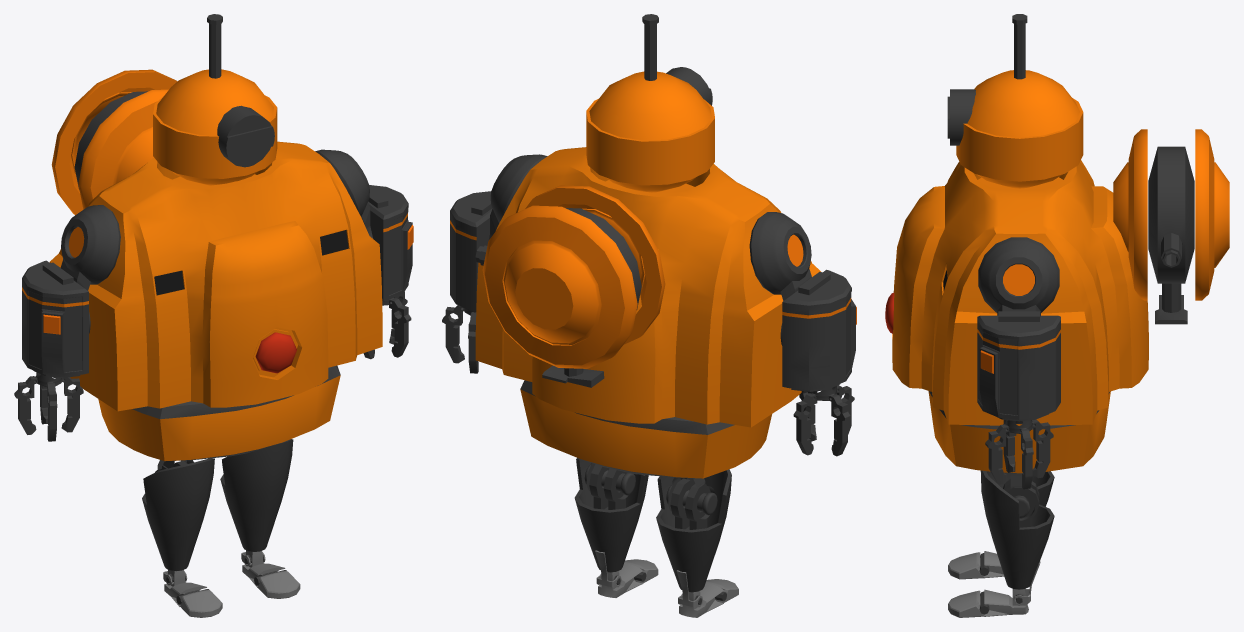
Rendered from Fatboy.fbx.
3 views of the same model, side by side, from view 1: azimuth 30°, elevation 25°; view 2: azimuth 150°, elevation 25°; view 3: azimuth 270°, elevation 25° (orthographic). The views are drawn at different scales.
Parts seen in each view (by area): view 1: Plane001.002, Sphere006.002, Plane002.002, fatboy_bacak_ve_ayak.013, fatboy_kollar.034, fatboy_kollar.033, Sphere004, Sphere005, fatbot_bacak_ve_ayak.023, fatboy_kollar.028, fatbot_bacak_ve_ayak.025, fatboy_govde_lamba_01.002 (+3 smaller); view 2: Plane001.002, Sphere005, Sphere006.002, Plane002.002, fatboy_kollar.034, fatboy_bacak_ve_ayak.013, fatboy_kollar.033, Sphere004, fatboy_kollar.027, fatbot_bacak_ve_ayak.025, fatboy_kollar.029, Cylinder001 (+5 smaller); view 3: Plane001.002, Sphere006.002, fatboy_kollar.034, fatboy_bacak_ve_ayak.013, Plane002.002, Cylinder001, fatboy_kollar.033, Sphere005, Sphere004, fatbot_bacak_ve_ayak.023, fatbot_bacak_ve_ayak.025, Cylinder003 (+4 smaller).
Boxes of the visible parts, x1=… form: Plane001.002: x1=49, y1=141, x2=382, y2=411; Sphere006.002: x1=153, y1=14, x2=277, y2=185; Plane002.002: x1=98, y1=365, x2=340, y2=461; fatboy_bacak_ve_ayak.013: x1=142, y1=439, x2=293, y2=571; fatboy_kollar.034: x1=22, y1=185, x2=413, y2=377; fatboy_kollar.033: x1=60, y1=149, x2=373, y2=333; Sphere004: x1=78, y1=89, x2=168, y2=209; Sphere005: x1=51, y1=69, x2=177, y2=215; fatbot_bacak_ve_ayak.023: x1=180, y1=571, x2=300, y2=617; fatboy_kollar.028: x1=47, y1=298, x2=411, y2=441; fatbot_bacak_ve_ayak.025: x1=164, y1=550, x2=285, y2=606; fatboy_govde_lamba_01.002: x1=255, y1=332, x2=296, y2=373; Plane001.002: x1=475, y1=147, x2=820, y2=427; Sphere005: x1=482, y1=205, x2=637, y2=368; Sphere006.002: x1=586, y1=14, x2=714, y2=192; Plane002.002: x1=520, y1=380, x2=771, y2=478; fatboy_kollar.034: x1=450, y1=191, x2=856, y2=391; fatboy_bacak_ve_ayak.013: x1=574, y1=458, x2=731, y2=592; fatboy_kollar.033: x1=488, y1=154, x2=811, y2=345; Sphere004: x1=525, y1=185, x2=665, y2=344; fatboy_kollar.027: x1=442, y1=305, x2=850, y2=456; fatbot_bacak_ve_ayak.025: x1=598, y1=563, x2=723, y2=617; fatboy_kollar.029: x1=468, y1=312, x2=816, y2=455; Cylinder001: x1=565, y1=208, x2=641, y2=309; Plane001.002: x1=892, y1=160, x2=1148, y2=425; Sphere006.002: x1=947, y1=14, x2=1083, y2=188; fatboy_kollar.034: x1=977, y1=311, x2=1060, y2=421; fatboy_bacak_ve_ayak.013: x1=980, y1=470, x2=1054, y2=589; Plane002.002: x1=928, y1=391, x2=1110, y2=473; Cylinder001: x1=1148, y1=146, x2=1194, y2=283; fatboy_kollar.033: x1=978, y1=237, x2=1059, y2=315; Sphere005: x1=1195, y1=129, x2=1229, y2=300; Sphere004: x1=1113, y1=129, x2=1147, y2=300; fatbot_bacak_ve_ayak.023: x1=948, y1=552, x2=984, y2=617; fatbot_bacak_ve_ayak.025: x1=984, y1=551, x2=1028, y2=616; Cylinder003: x1=1155, y1=283, x2=1187, y2=324.
Size of the model in its own units: 134 by 185 by 100.
